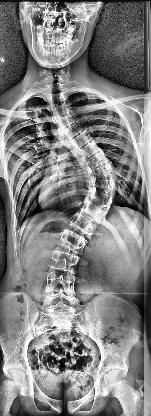Vertebrae: (60, 226, 90, 254), (70, 212, 98, 238), (46, 272, 78, 294), (51, 252, 83, 274), (80, 200, 106, 226), (88, 191, 114, 215), (45, 292, 79, 310), (88, 181, 120, 197), (62, 122, 84, 144), (82, 151, 112, 167), (91, 165, 117, 183), (77, 142, 103, 158), (72, 130, 94, 148), (52, 103, 70, 119), (56, 116, 76, 130)
